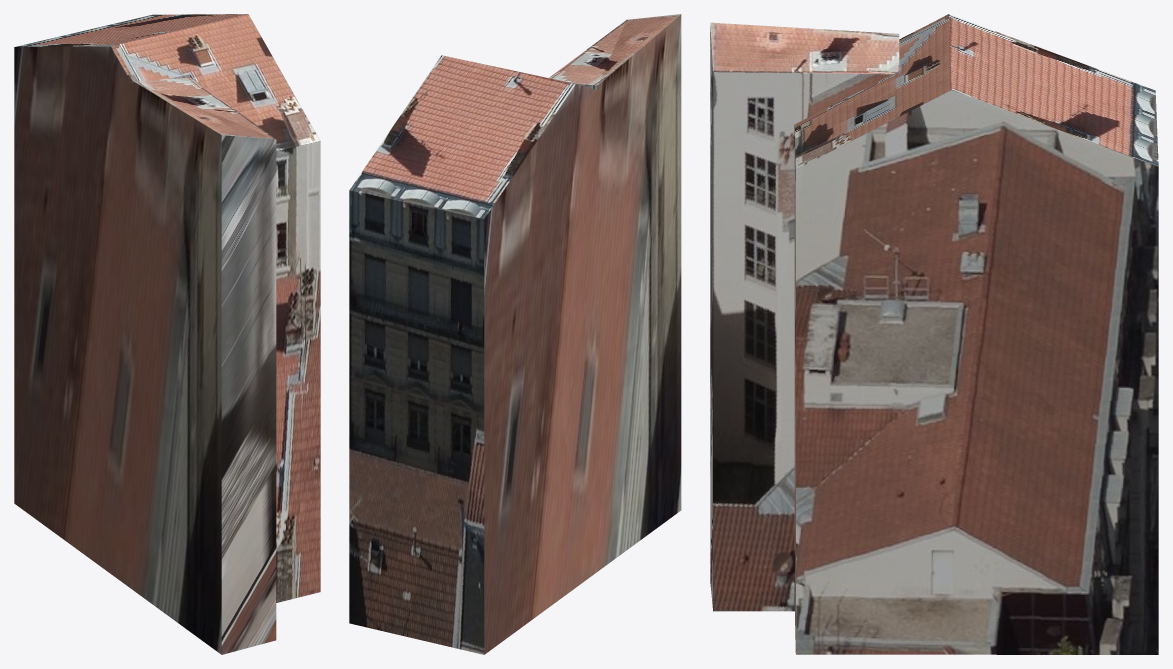
3 views of the same model, side by side, from view 1: azimuth 30°, elevation 25°; view 2: azimuth 150°, elevation 25°; view 3: azimuth 270°, elevation 25° (orthographic). The views are drawn at different scales.
Visible parts, largest first — view 1: Z_UP; view 2: Z_UP; view 3: Z_UP.
Boxes of the visible parts, x1,y1,x2,y2 form: Z_UP: (14,14,320,654); Z_UP: (349,14,681,654); Z_UP: (710,14,1158,654).
Bounding box in the file's own units: 7.49 × 27.02 × 19.34.
2 materials, 1 textured.
